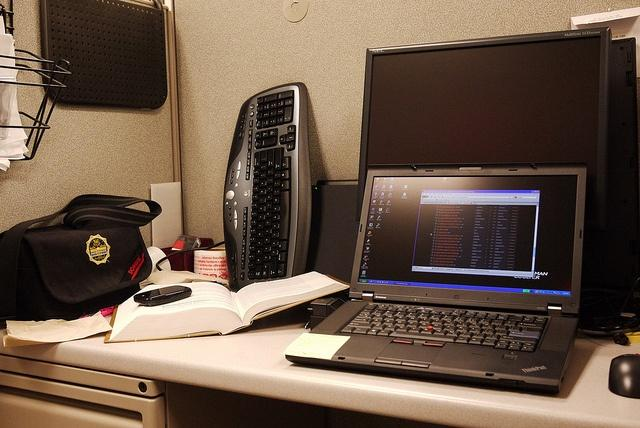AIO PC-Monitor-TV: (355, 26, 612, 233)
